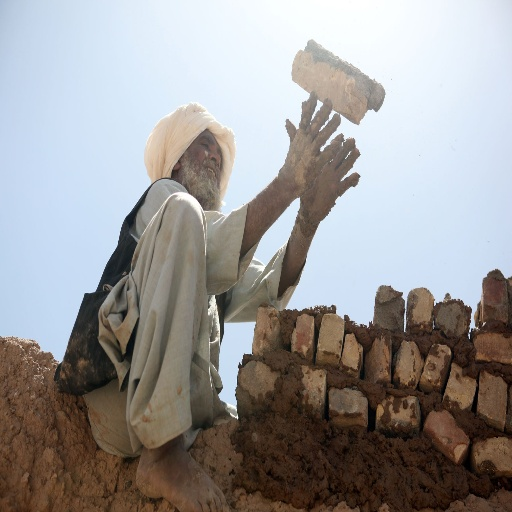hand: (277, 90, 342, 197), (299, 127, 359, 227)
